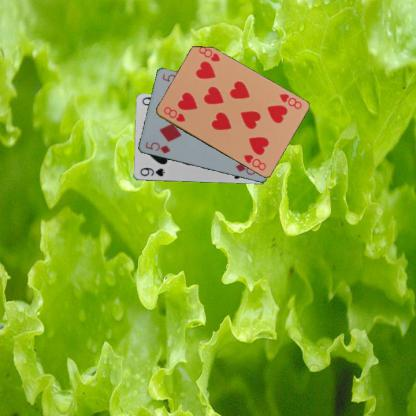5d: (142, 139, 172, 155)
8h: (160, 104, 186, 124), (276, 92, 303, 110)
9s: (137, 165, 166, 178)
